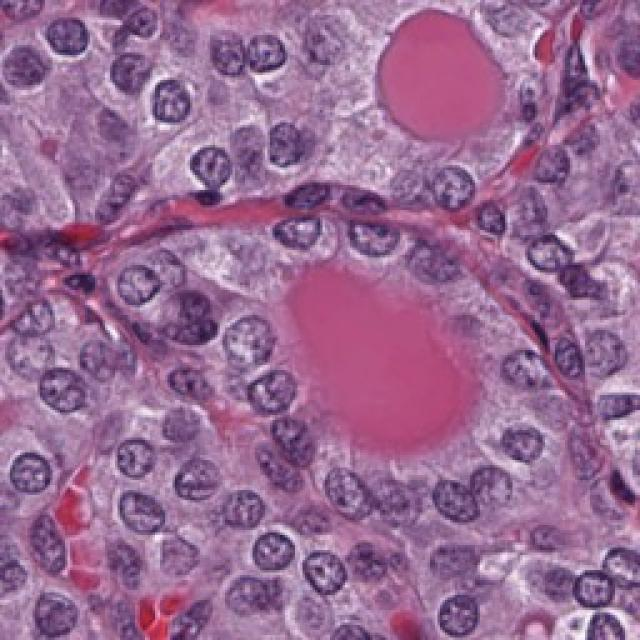abnormal: (303, 422, 384, 528), (222, 362, 320, 445), (26, 341, 109, 434), (160, 452, 245, 536), (261, 173, 335, 266), (212, 280, 287, 370), (476, 336, 556, 420), (413, 143, 489, 230), (283, 535, 364, 610), (235, 10, 305, 93), (3, 420, 72, 504), (334, 203, 418, 270), (214, 308, 293, 378), (106, 249, 183, 319), (172, 131, 252, 197), (135, 61, 210, 131), (512, 220, 580, 297), (410, 472, 490, 537), (19, 515, 89, 589), (263, 189, 328, 268), (39, 0, 114, 68), (558, 558, 637, 622), (191, 10, 255, 88), (410, 581, 494, 640), (93, 431, 169, 496), (22, 577, 96, 640), (459, 460, 529, 524), (252, 108, 305, 188), (113, 479, 175, 543)
